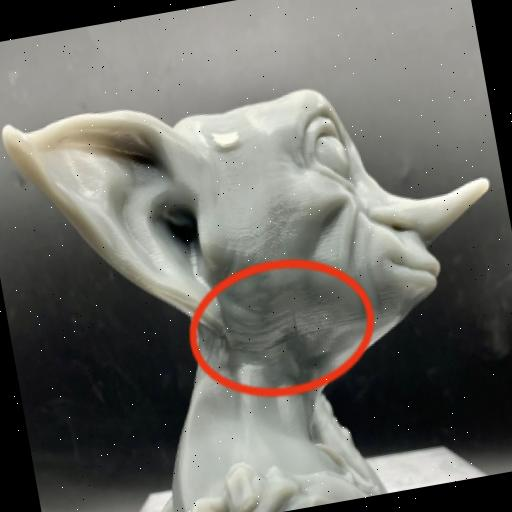cracks: (222, 302, 328, 367)
